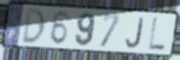6: (49, 10, 71, 46)
7: (100, 12, 122, 50)
9: (74, 11, 97, 49)
D: (22, 7, 47, 45)
J: (124, 16, 146, 50)
L: (148, 16, 167, 52)
